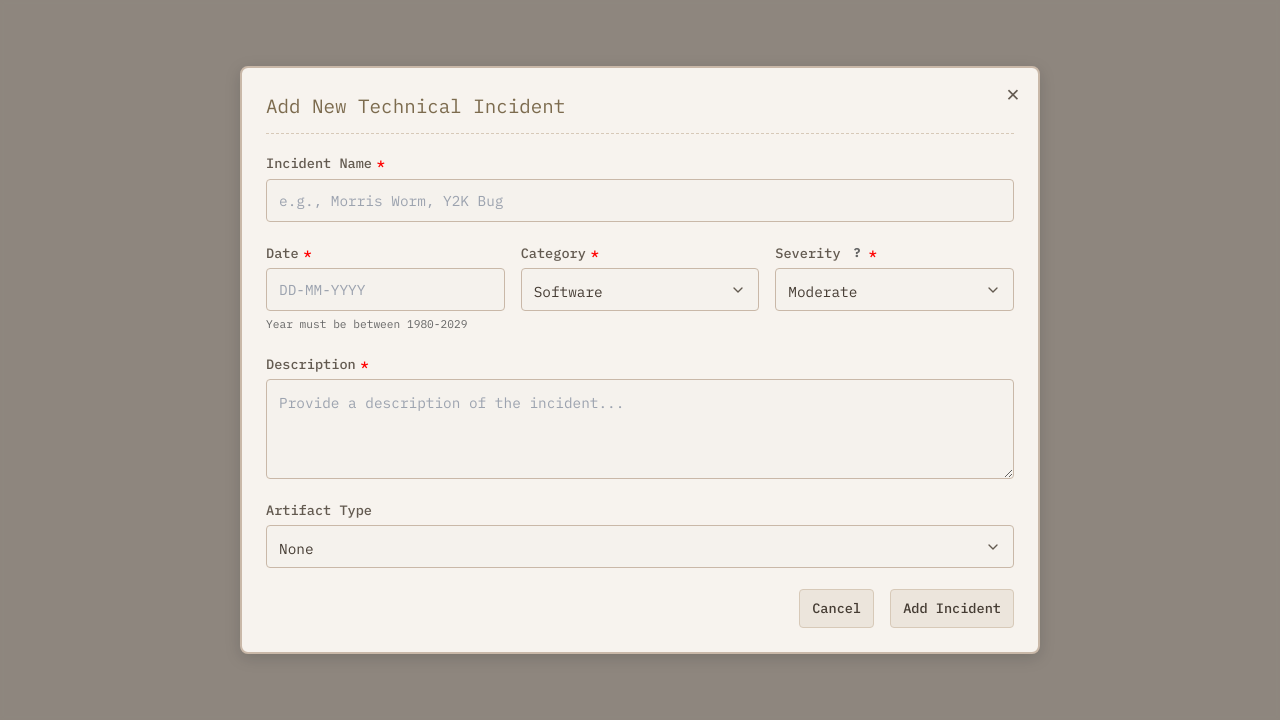
it: IncidentModals › Common modal behaviors › disables submit buttons during form submission
Type "Test Incident" into the field labelled "Incident Name *". click: (640, 200)
box: [266,178,1014,222]
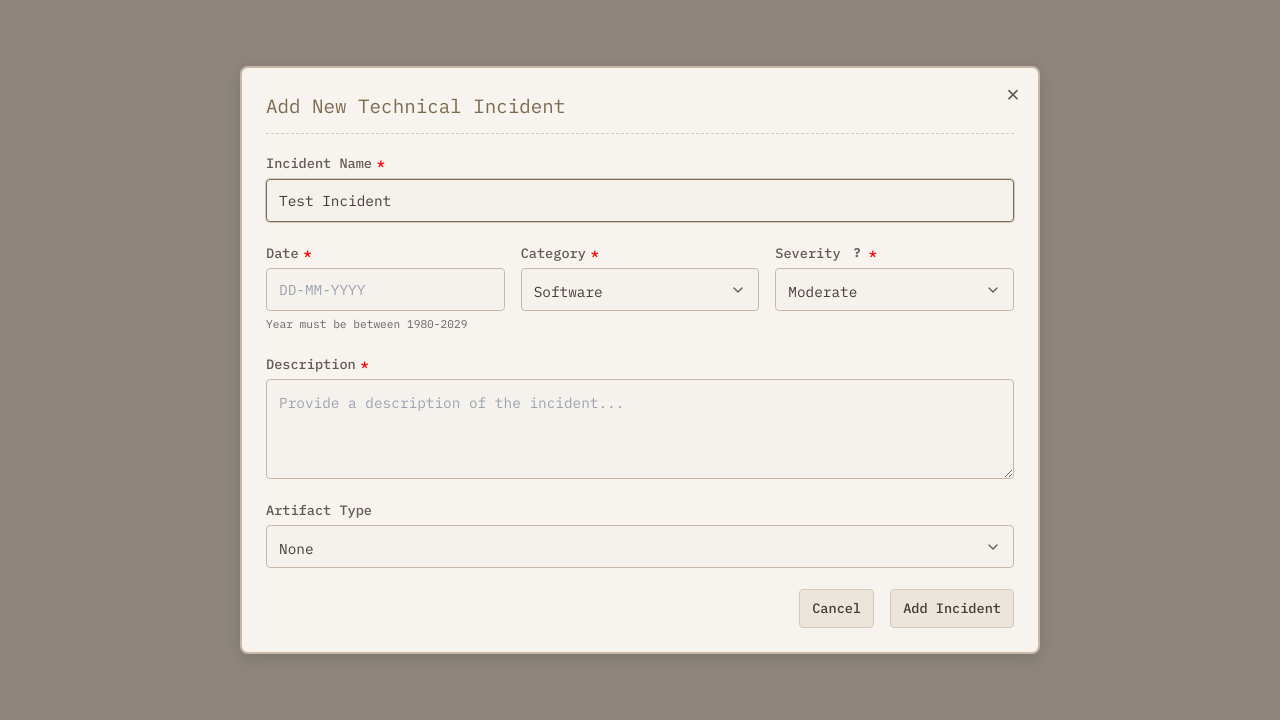
Type "01-01-2022" into the field labelled "Date *". click: (385, 290)
box: [266,268,505,311]
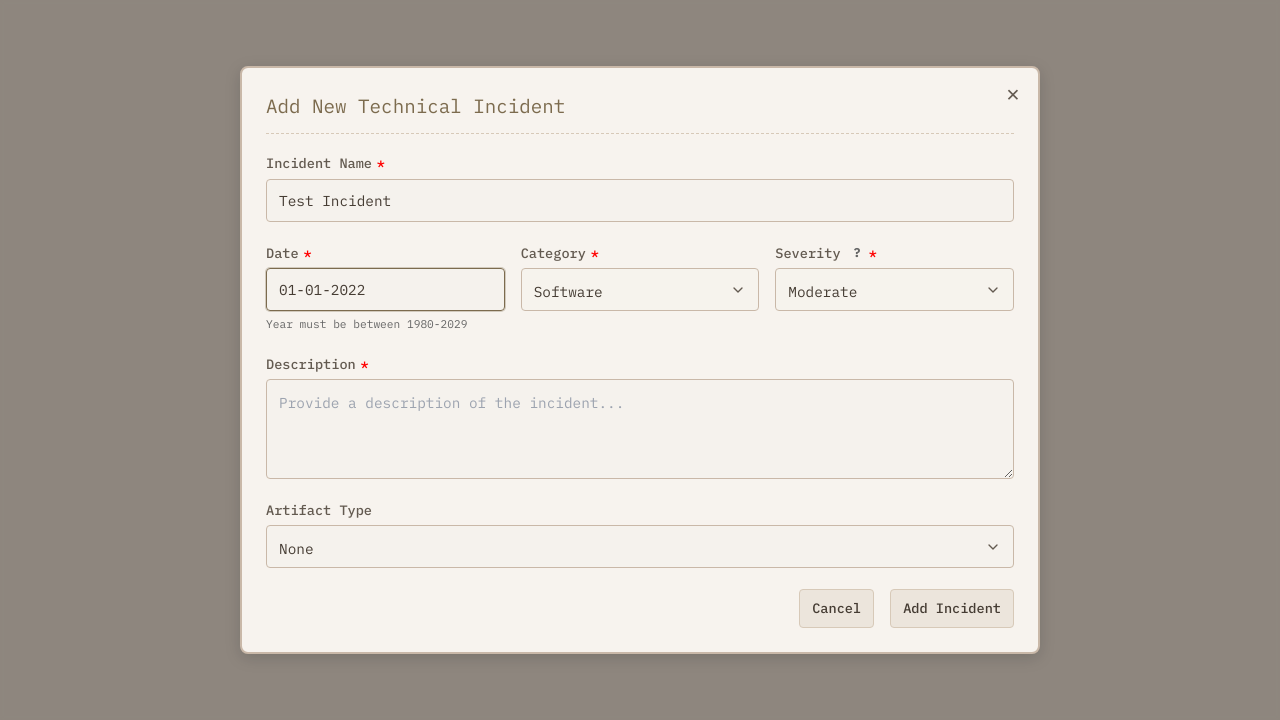
Type "This is a test description" into the text box labelled "Description *". click: (640, 429)
box: [266,379,1014,479]
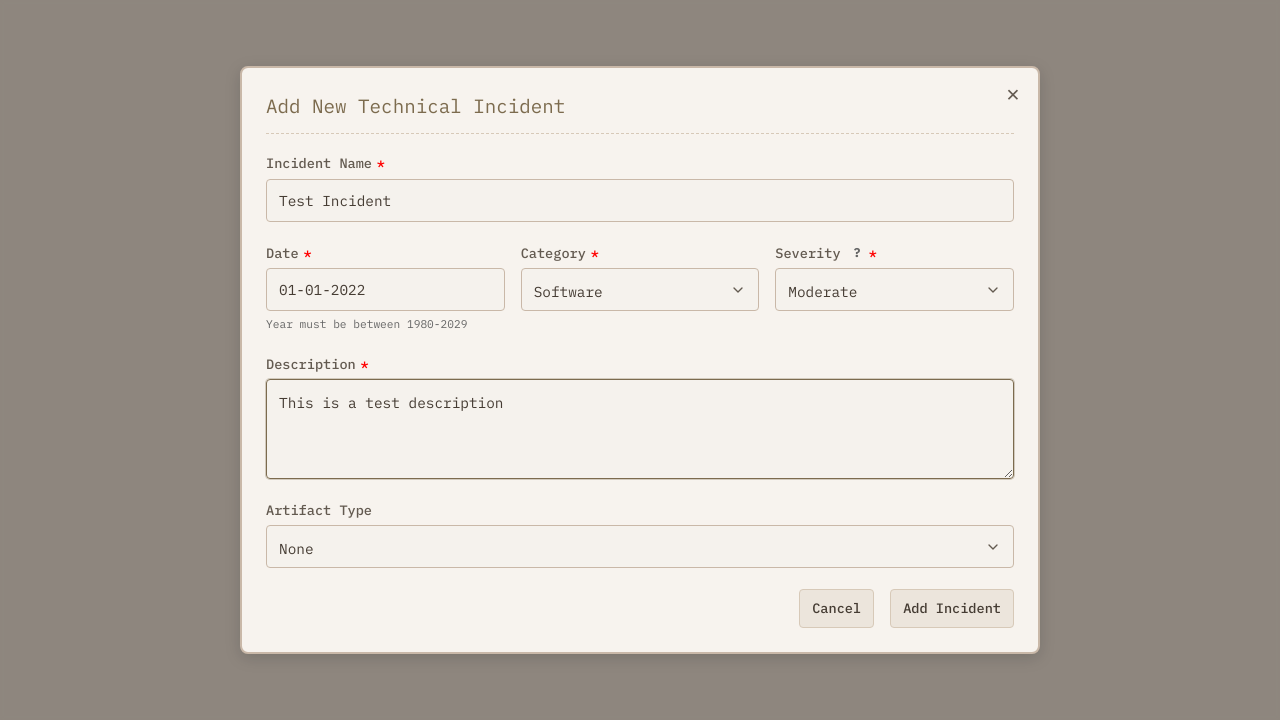
Click the button "Add Incident". click: (952, 608)
box: [890,589,1014,628]
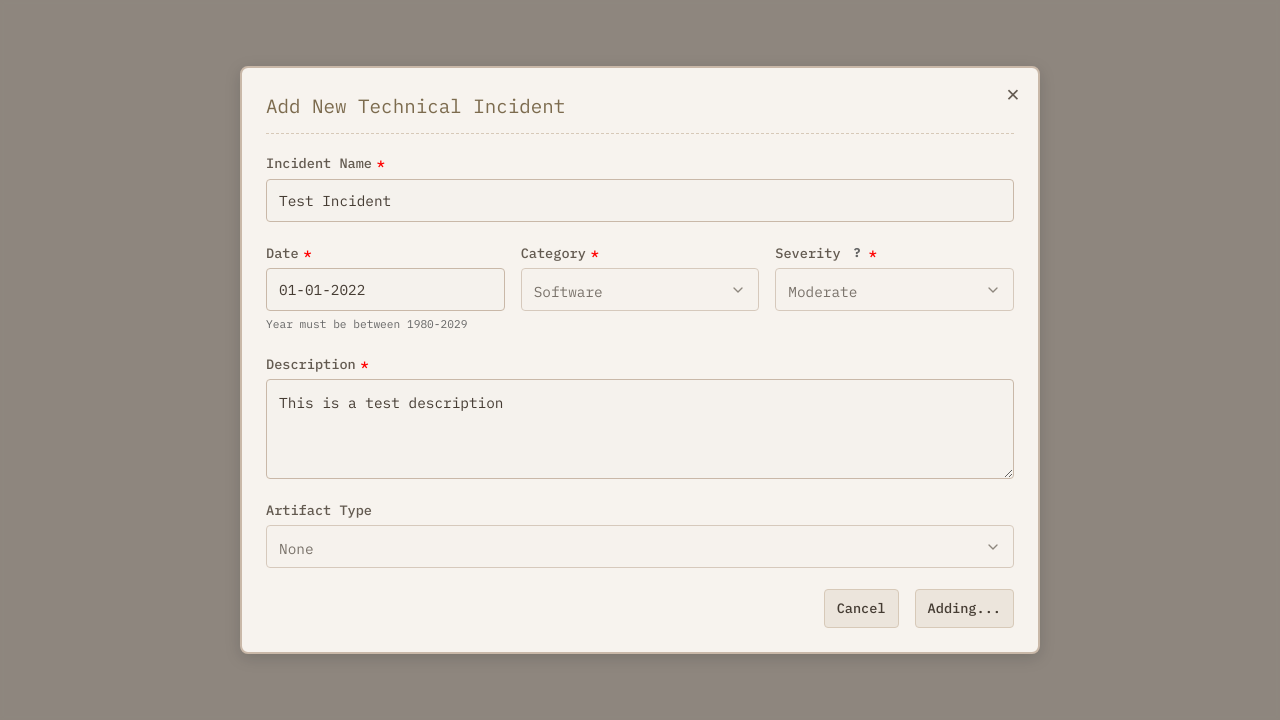
Expected: the button "Adding..." is disabled, [915,589,1014,628]
